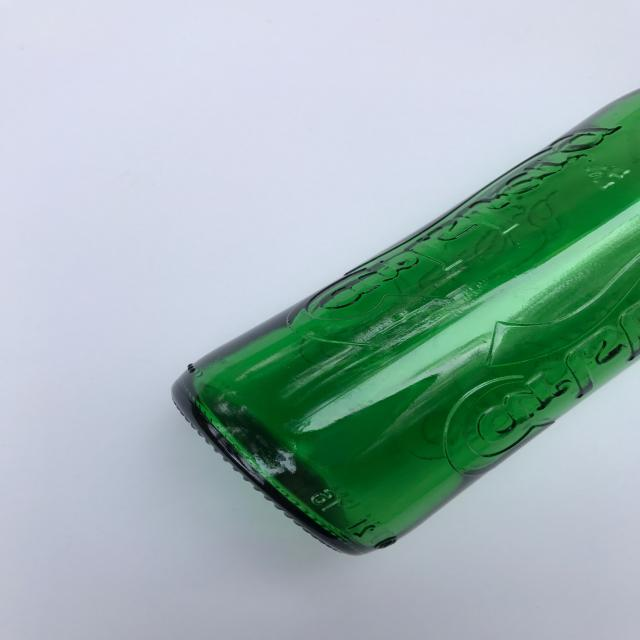glass: (170, 85, 640, 556)
